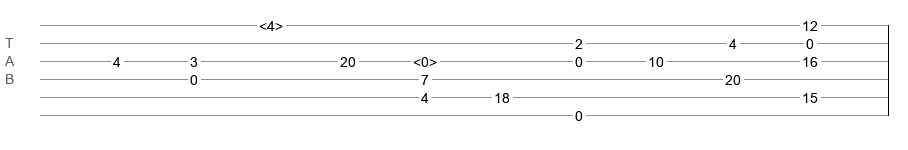0: (190, 72, 198, 82), (575, 54, 583, 64), (575, 108, 583, 118), (806, 36, 814, 46)
10: (648, 54, 664, 64)
12: (802, 18, 818, 28)
15: (802, 90, 818, 100)
16: (802, 54, 818, 64)
18: (494, 90, 510, 100)
2: (575, 36, 583, 46)
20: (340, 54, 356, 64), (725, 72, 741, 82)
3: (190, 54, 198, 64)
4: (113, 54, 121, 64), (421, 90, 429, 100), (729, 36, 737, 46)
7: (421, 72, 429, 82)
harmonic: (259, 18, 283, 28), (413, 54, 437, 64)
